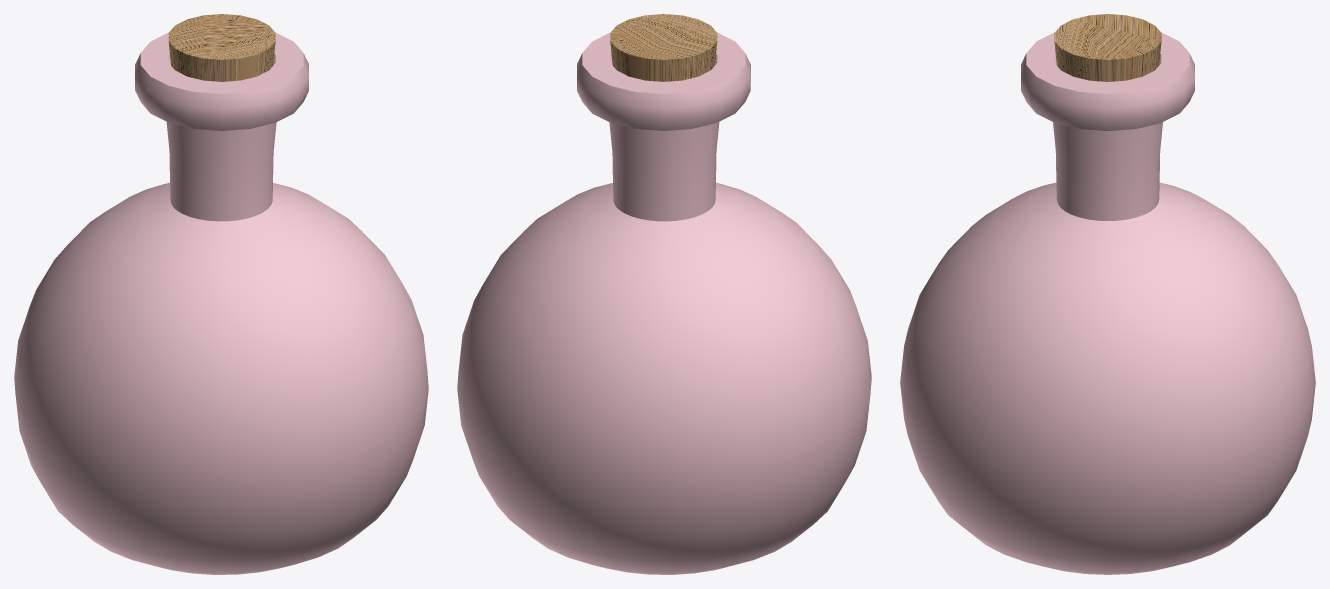
The model's file is potion.fbx.
The picture shows the model from 3 angles, left to right: view 1: azimuth 30°, elevation 25°; view 2: azimuth 150°, elevation 25°; view 3: azimuth 270°, elevation 25°; orthographic projection.
Parts seen in each view (by area): view 1: Sphere001, Object; view 2: Sphere001, Object; view 3: Sphere001, Object.
Boxes of the visible parts, <box> form: Sphere001: <box>14,32,428,574</box>; Object: <box>168,14,275,81</box>; Sphere001: <box>457,32,871,574</box>; Object: <box>610,14,717,81</box>; Sphere001: <box>900,32,1315,574</box>; Object: <box>1054,14,1161,81</box>.
Size of the model in its own units: 25.4 by 34.84 by 25.4.
Materials: 4 (1 with a texture image).
